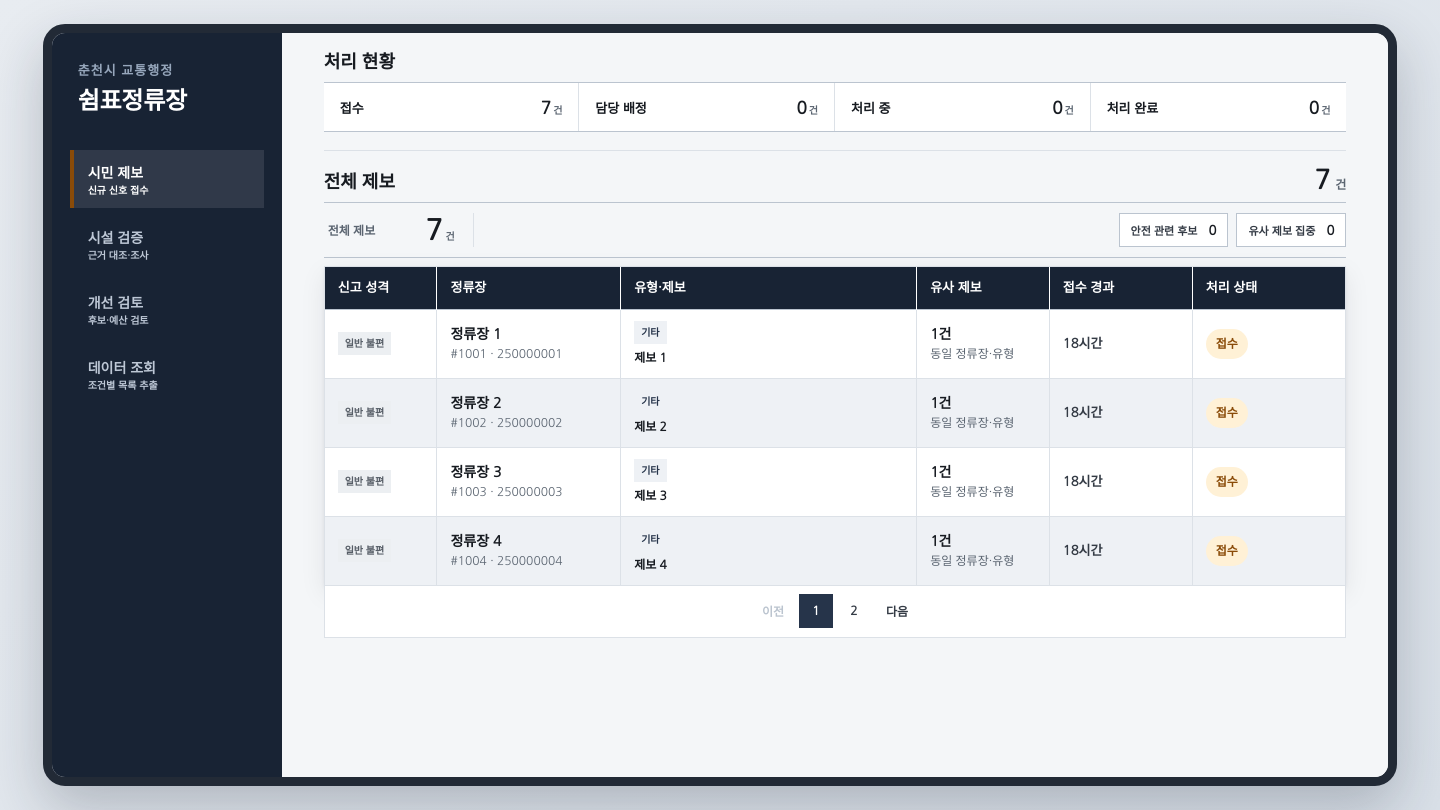
Scenario: <Dashboard> — (a) 탭 구조 › 제보가 4건을 넘으면 스크롤 대신 페이지를 나눠 표시한다
Expected: the navigation bar named "제보 목록 페이지" is shown, x1=324 y1=586 x2=1346 y2=638
Expected: the text "제보 1" is shown, x1=634 y1=352 x2=667 y2=364
Click the button "다음".
click(897, 611)  # box x1=875 y1=594 x2=919 y2=628
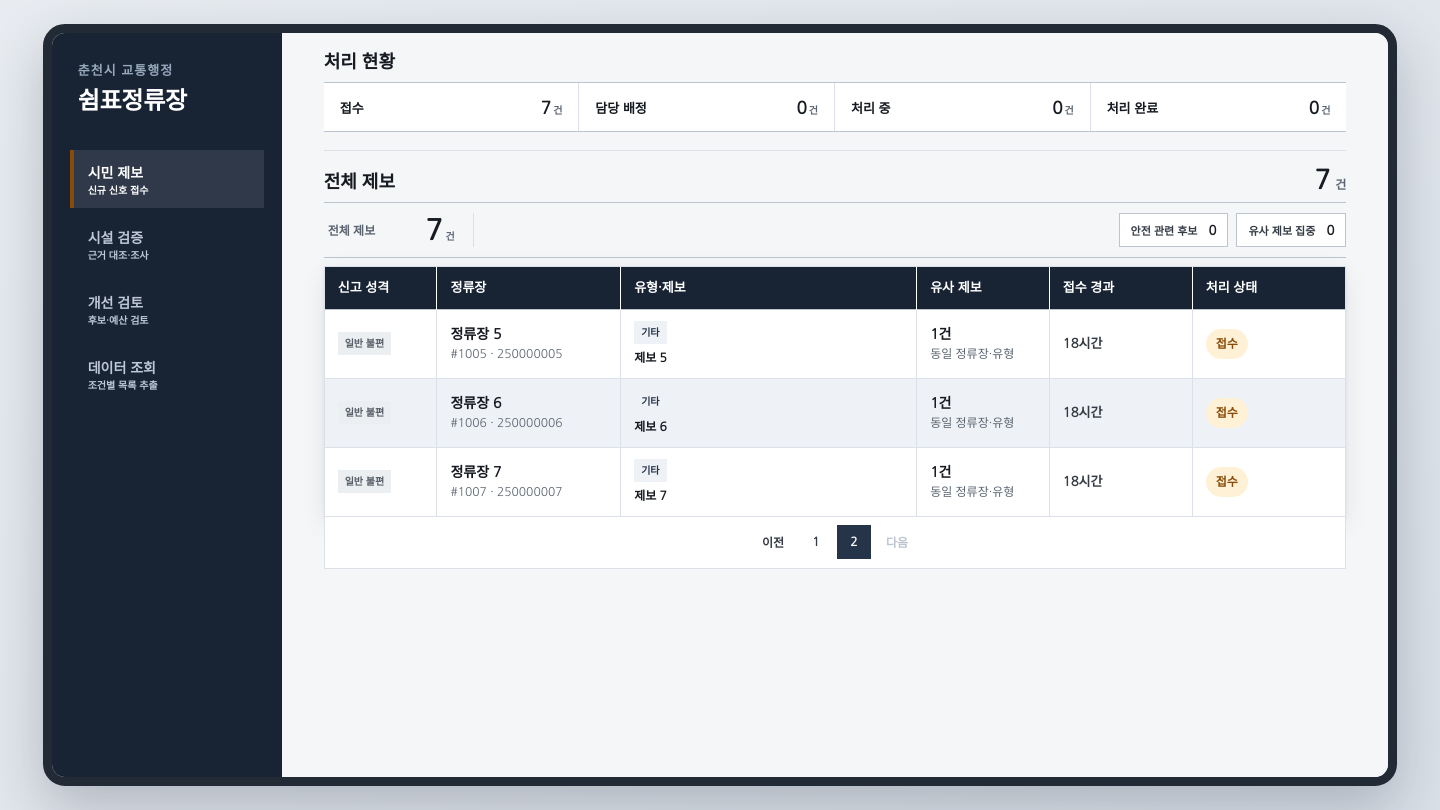
Expected: the text "제보 7" is shown, x1=634 y1=490 x2=667 y2=502
Expected: the text "제보 1" is gone
